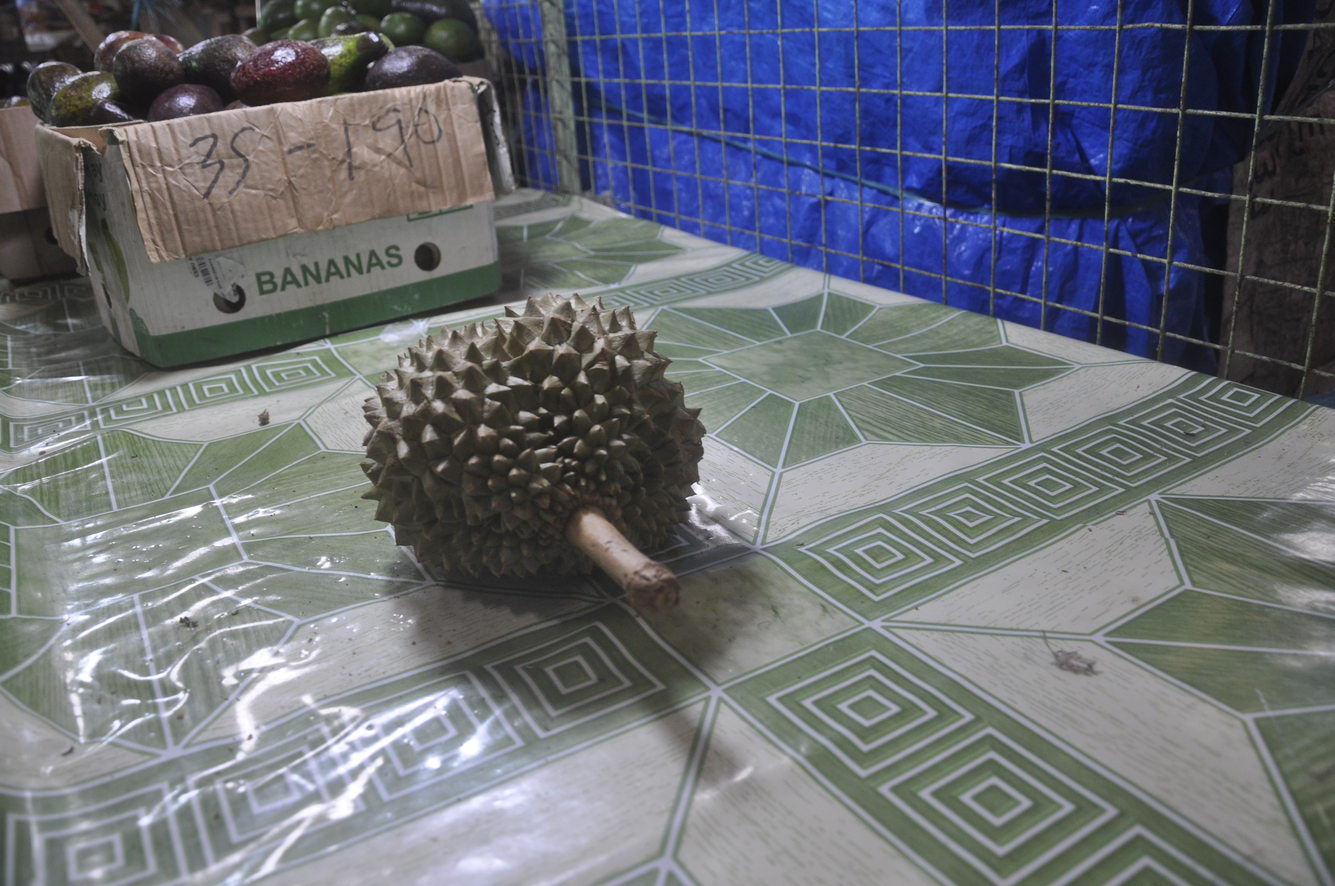mature: (361, 293, 705, 612)
